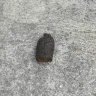Dog: (36, 33, 54, 62)
